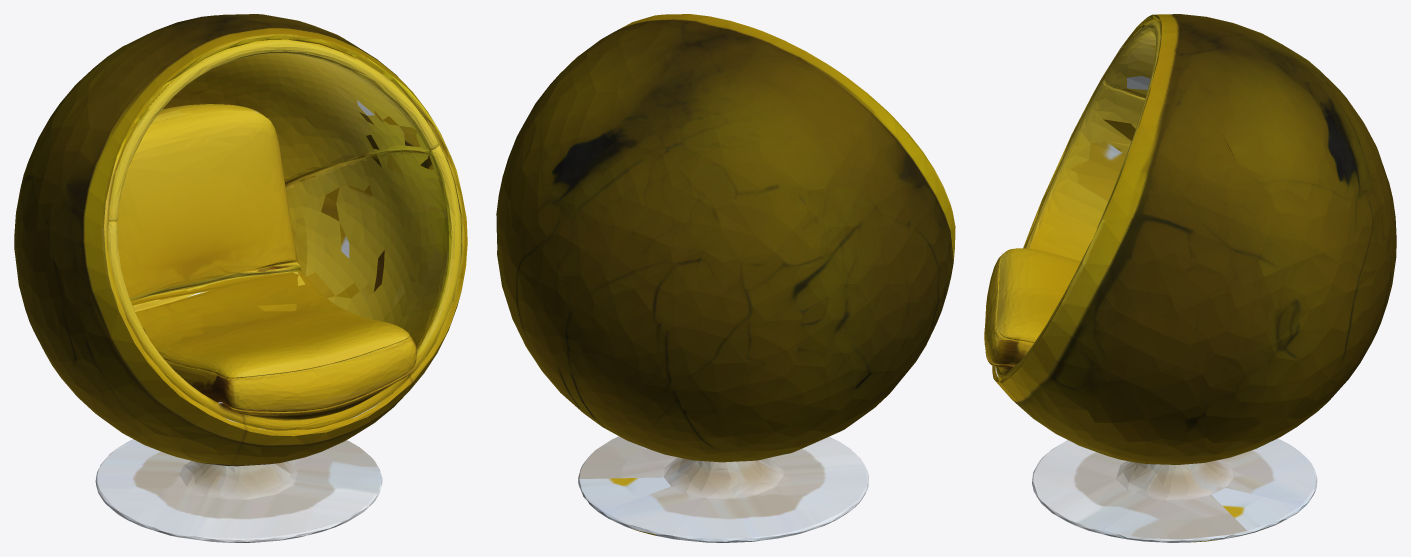
Rendered from edited_mesh.glb.
3 renders of one model, left to right at view 1: azimuth 30°, elevation 25°; view 2: azimuth 150°, elevation 25°; view 3: azimuth 270°, elevation 25°, orthographic.
Parts seen in each view (by area): view 1: solid_001_wire; view 2: solid_001_wire; view 3: solid_001_wire.
Boxes of the visible parts, bbox=[...] form: solid_001_wire: bbox=[14, 14, 467, 542]; solid_001_wire: bbox=[496, 14, 955, 542]; solid_001_wire: bbox=[984, 14, 1396, 542].
Size of the model in its own units: 1.25 by 1.37 by 1.15.
1 material, 1 textured.
